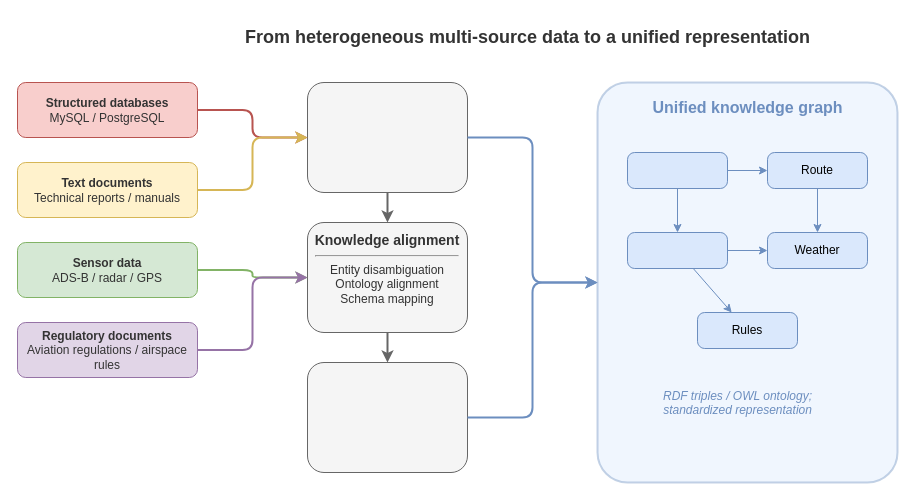
Image size: 916x500. Some labels were removed from this diagram. The centre of each missing label's shape, as x and y in pixels:
"Aircraft" belongs at pixel 677 170.
"Airspace" belongs at pixel 677 250.
"Knowledge extraction NER Relation extraction Attribute extraction" belongs at pixel 387 137.
"Knowledge fusion Conflict resolution Deduplication Consistency checking" belongs at pixel 387 417.
